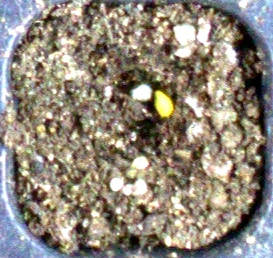pepper seed: (66, 30, 241, 149)
